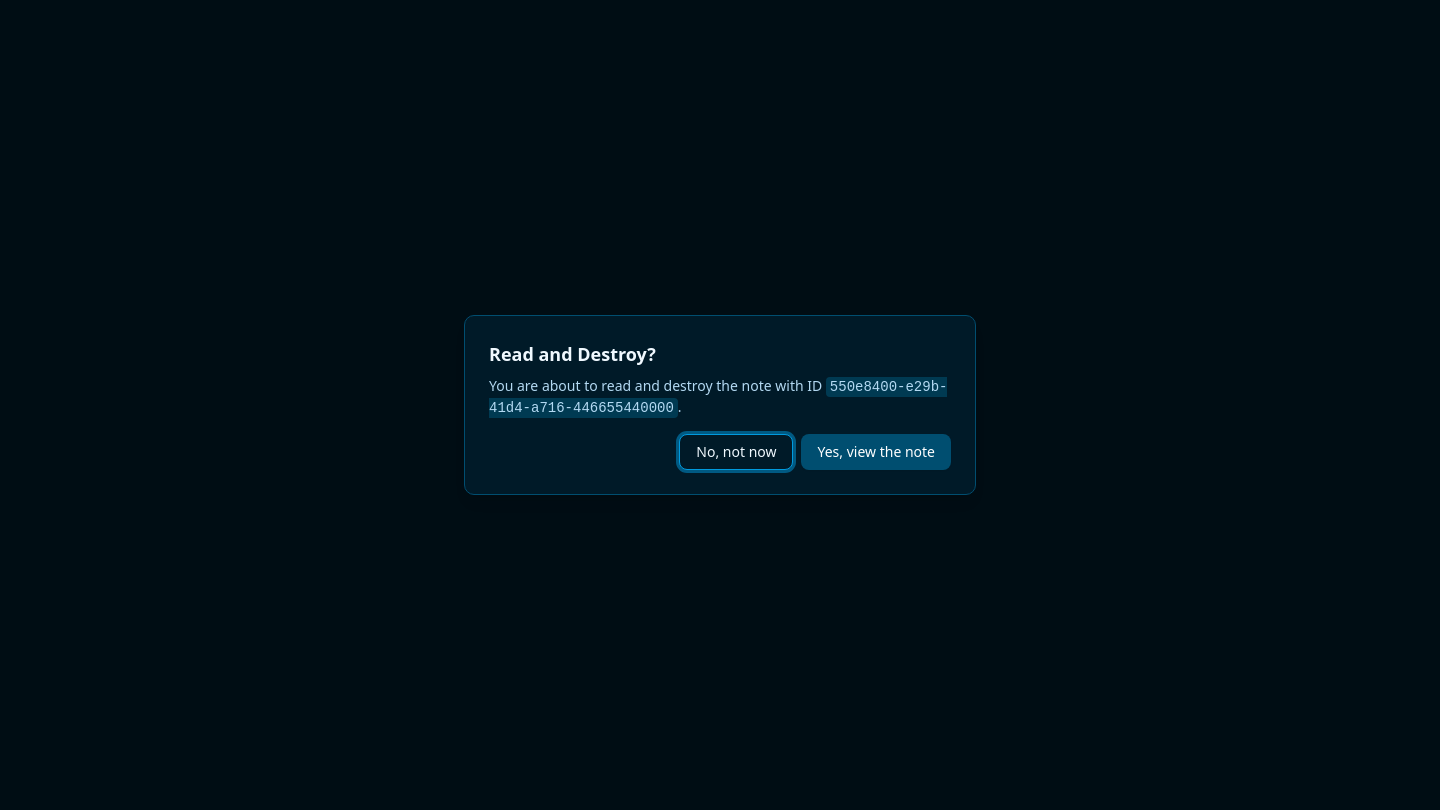
Test: NotePage › decrypts and displays note after confirmation
Check: the dialog is shown, box x1=464 y1=315 x2=976 y2=495
Click the button "Yes, view the note" at (876, 452), box x1=802 y1=434 x2=951 y2=470
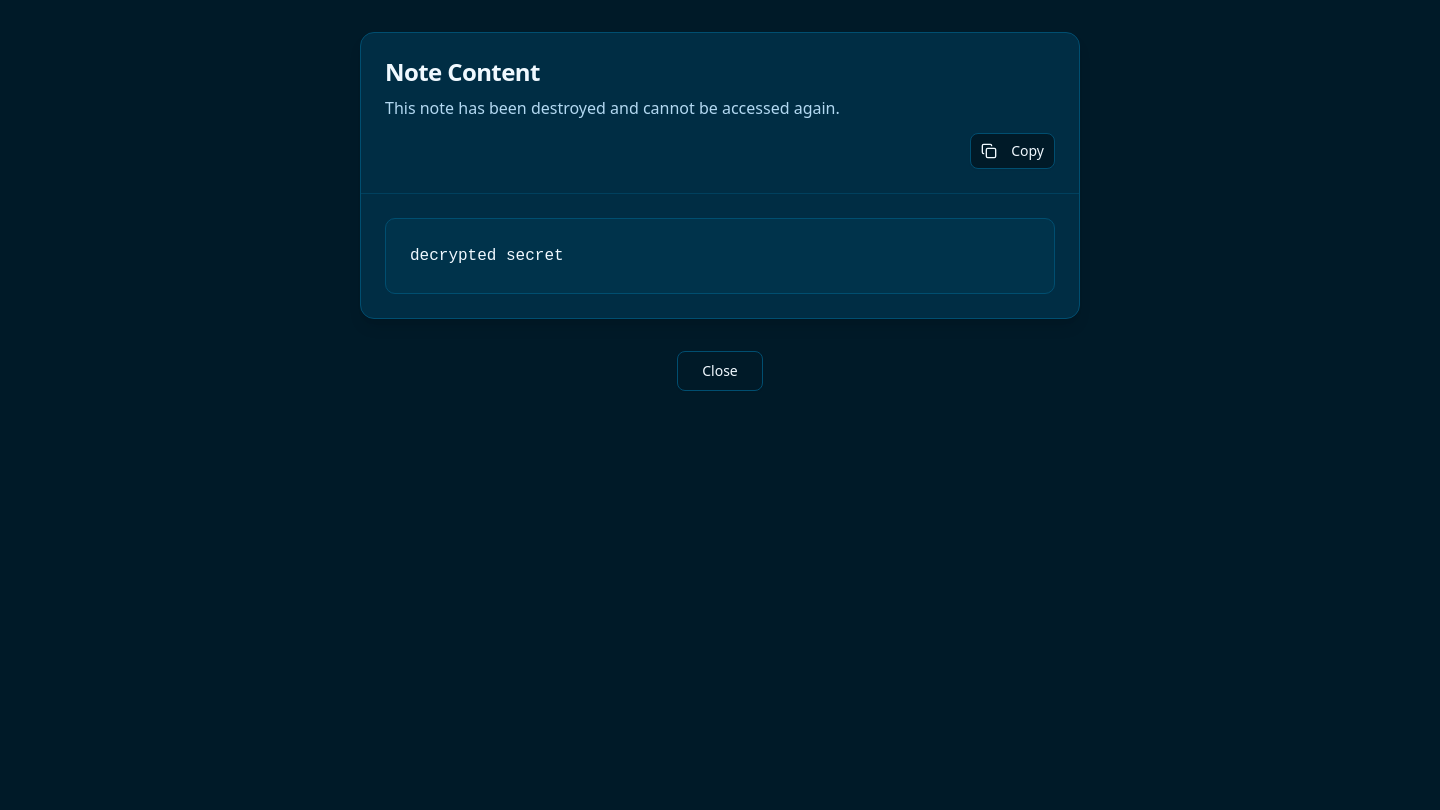
Check: the text "decrypted secret" is shown, box x1=410 y1=247 x2=564 y2=265
